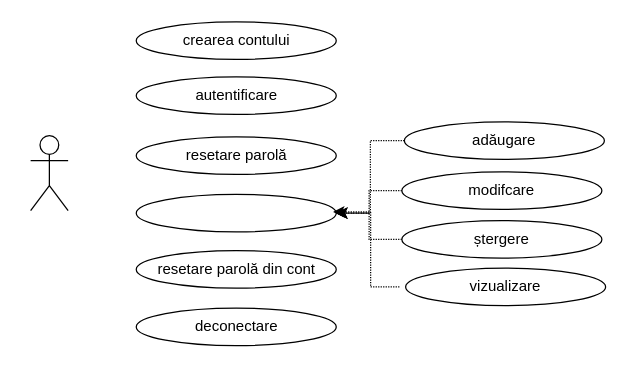
Image size: 628x368. Some labels were removed from this diagram. The centre of each missing label's shape, as x and y in pixels:
conturi: point 235,212
utilizator: point 48,172
